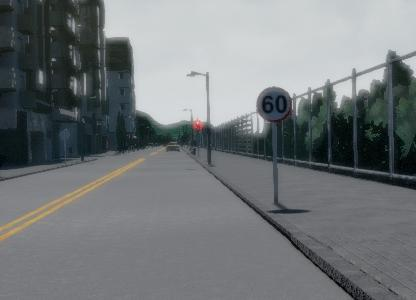Speed_60: (256, 84, 292, 121)
